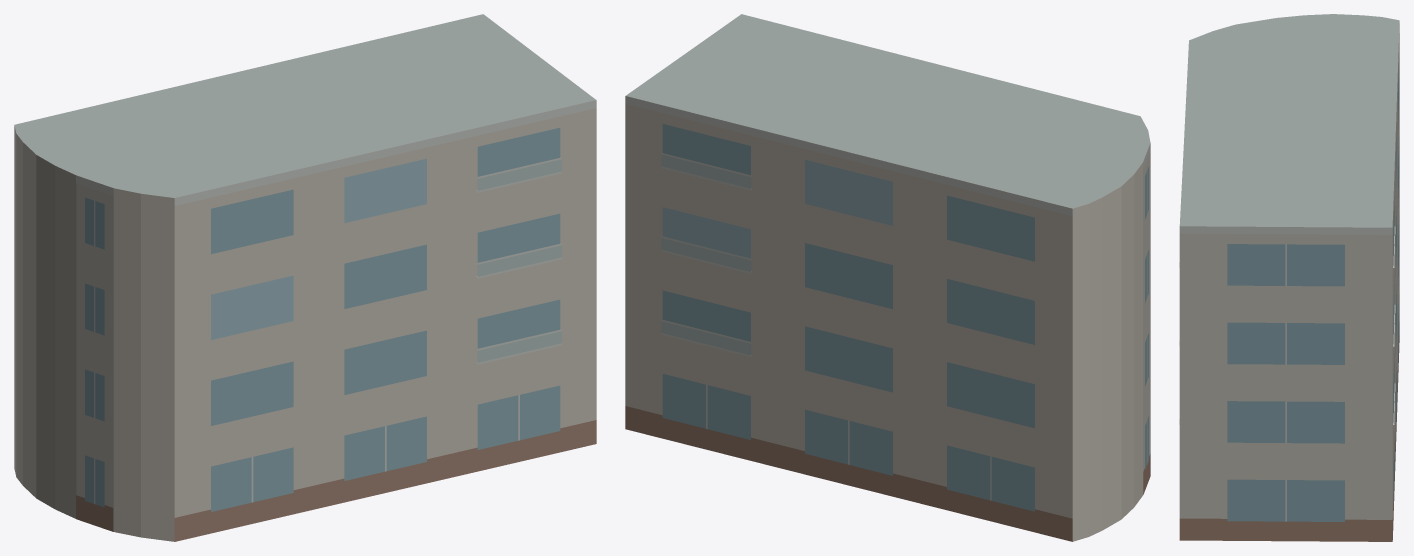
File: survey-upis-32877006.glb
3 renders of one model, left to right at view 1: azimuth 30°, elevation 25°; view 2: azimuth 150°, elevation 25°; view 3: azimuth 270°, elevation 25°, orthographic. The views are drawn at different scales.
Parts seen in each view (by area): view 1: survey-upis-32877006.tmp; view 2: survey-upis-32877006.tmp; view 3: survey-upis-32877006.tmp.
Part boxes in pixels (x1=…): survey-upis-32877006.tmp: x1=14, y1=14, x2=596, y2=541; survey-upis-32877006.tmp: x1=625, y1=14, x2=1150, y2=541; survey-upis-32877006.tmp: x1=1179, y1=14, x2=1399, y2=541.
Bounding box in the file's own units: 15.48 × 10.6 × 6.75.
